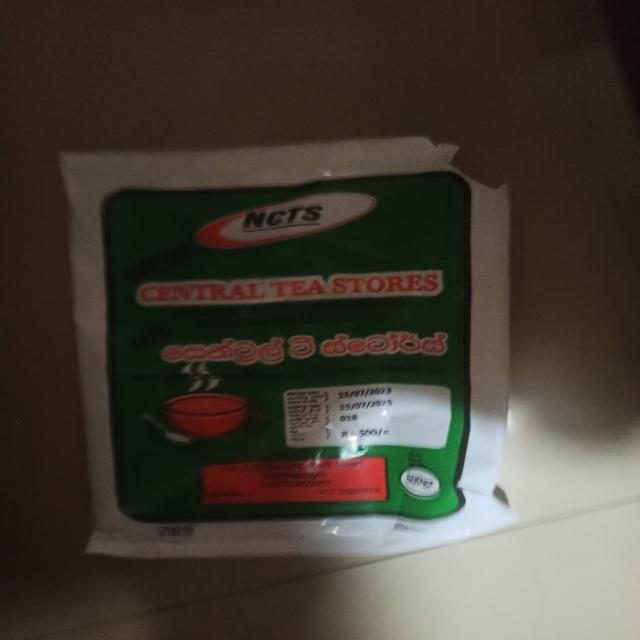Central Tea: (27, 135, 513, 573)
